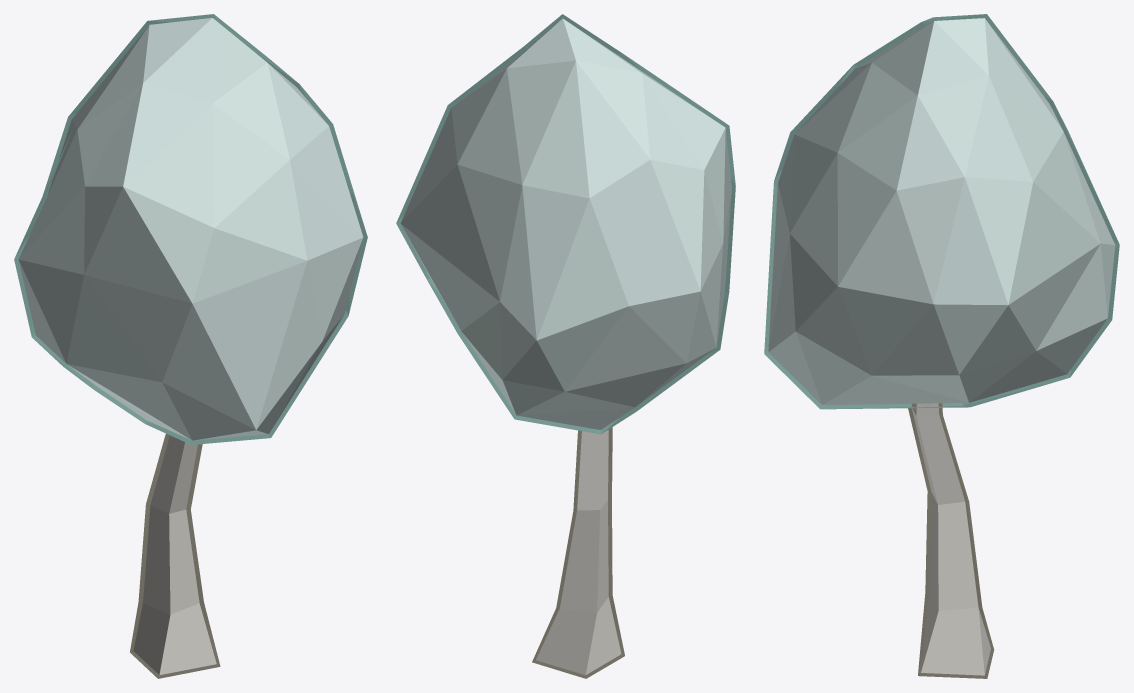
File: tree-5.glb
3 renders of one model, left to right at view 1: azimuth 30°, elevation 25°; view 2: azimuth 150°, elevation 25°; view 3: azimuth 270°, elevation 25°, orthographic. The views are drawn at different scales.
Visible parts, largest first — view 1: foliage, trunk, trunk.001; view 2: foliage, trunk, trunk.001; view 3: foliage, trunk, trunk.001.
Boxes of the visible parts, x1,y1,x2,y2 form: foliage: (18,18,363,440); trunk: (133,435,216,675); trunk.001: (14,14,367,678); foliage: (400,18,731,429); trunk: (536,430,621,675); trunk.001: (396,14,735,678); foliage: (768,18,1115,404); trunk: (911,403,990,675); trunk.001: (764,14,1119,678).
Bounding box in the file's own units: 7.87 × 15.6 × 7.62.
